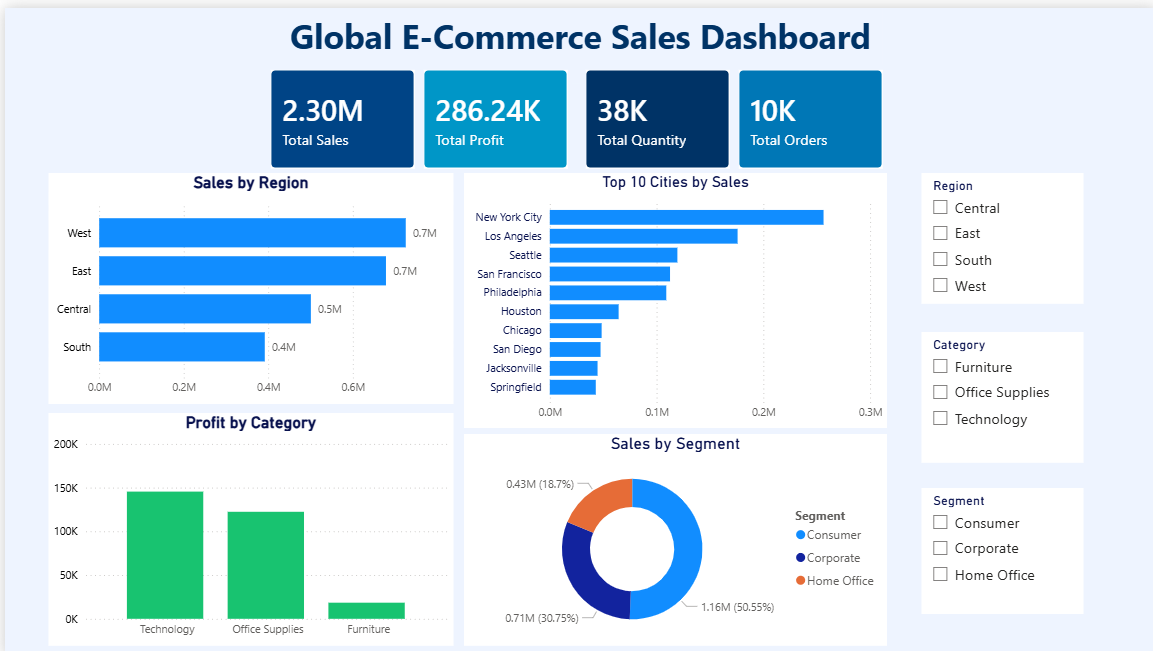

This screenshot's page, from the dashboard's own definition file:
{"tool":"powerbi","page":{"name":"Page 1","canvas":[1280,720],"ordinal":0},"visuals":[{"type":"textbox","box":[304,0,672,84],"z":0},{"type":"clusteredBarChart","title":"Sales by Region","fields":{"Category":["cleaned_SampleSuperstore.Region"],"Y":["Sum(cleaned_SampleSuperstore.Sales)"]},"box":[48.2,183.6,450,256.4],"z":1000},{"type":"cardVisual","fields":{"Data":["Sum(cleaned_SampleSuperstore.Sales)"]},"box":[290,63.3,170,120],"z":2000},{"type":"cardVisual","fields":{"Data":["Sum(cleaned_SampleSuperstore.Profit)"]},"box":[460,63.3,170,120],"z":3000},{"type":"cardVisual","fields":{"Data":["Sum(cleaned_SampleSuperstore.Quantity)"]},"box":[640,63.3,170,120],"z":4000},{"type":"cardVisual","fields":{"Data":["cleaned_SampleSuperstore.Total Orders"]},"box":[810,63.3,170,120],"z":5000},{"type":"clusteredColumnChart","title":"Profit by Category","fields":{"Category":["cleaned_SampleSuperstore.Category"],"Y":["Sum(cleaned_SampleSuperstore.Profit)"]},"box":[48.3,450,450,258.3],"z":6000},{"type":"donutChart","title":"Sales by Segment","fields":{"Category":["cleaned_SampleSuperstore.Segment"],"Y":["Sum(cleaned_SampleSuperstore.Sales)"]},"box":[510,473.3,470,235],"z":7000},{"type":"clusteredBarChart","title":"Top 10 Cities by Sales","fields":{"Category":["cleaned_SampleSuperstore.City"],"Y":["Sum(cleaned_SampleSuperstore.Sales)"]},"box":[510,183.6,470,283.6],"z":8000},{"type":"slicer","fields":{"Values":["cleaned_SampleSuperstore.Region"]},"box":[1018.3,183.3,180,145],"z":9000},{"type":"slicer","fields":{"Values":["cleaned_SampleSuperstore.Category"]},"box":[1018.3,360,180,145],"z":10000},{"type":"slicer","fields":{"Values":["cleaned_SampleSuperstore.Segment"]},"box":[1018.3,533.3,180,140],"z":11000}]}

Visuals, with their boxes in screenshot pixels (x1, y1, x2, y2), scaled from the page's 1280x720 canvas onto the 1153x651 screenshot:
textbox: region(274, 0, 879, 76)
"Sales by Region" clusteredBarChart: region(43, 166, 449, 398)
cardVisual - Sum(cleaned_SampleSuperstore.Sales): region(261, 57, 414, 166)
cardVisual - Sum(cleaned_SampleSuperstore.Profit): region(414, 57, 567, 166)
cardVisual - Sum(cleaned_SampleSuperstore.Quantity): region(576, 57, 730, 166)
cardVisual - cleaned_SampleSuperstore.Total Orders: region(730, 57, 883, 166)
"Profit by Category" clusteredColumnChart: region(44, 407, 449, 640)
"Sales by Segment" donutChart: region(459, 428, 883, 640)
"Top 10 Cities by Sales" clusteredBarChart: region(459, 166, 883, 422)
slicer - cleaned_SampleSuperstore.Region: region(917, 166, 1079, 297)
slicer - cleaned_SampleSuperstore.Category: region(917, 326, 1079, 457)
slicer - cleaned_SampleSuperstore.Segment: region(917, 482, 1079, 609)
